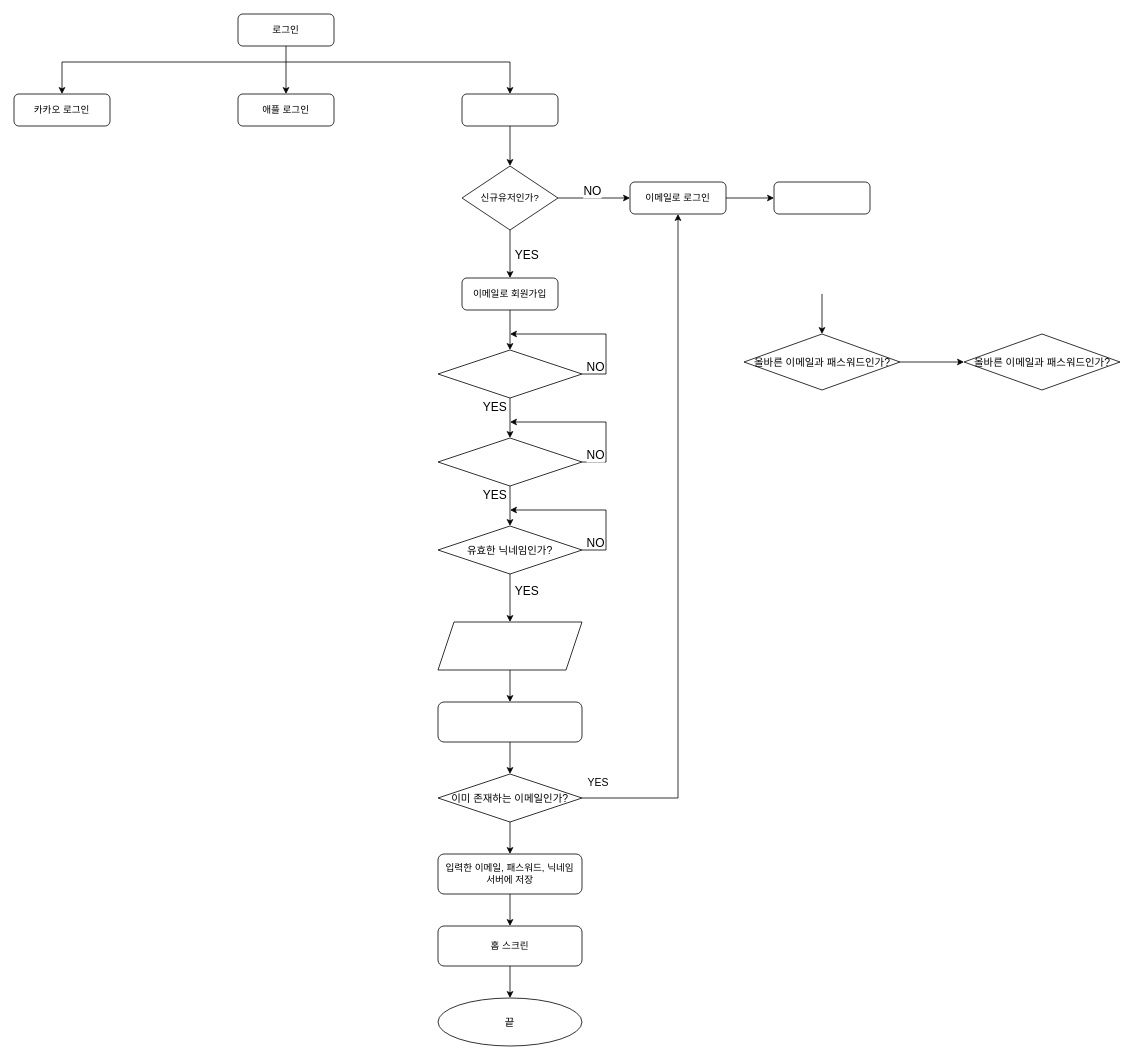
Image size: 1134x1060. Some labels were removed from this diagram. The box of each missing label's shape, as (x1, y1, x2, y2) in pixels:
기존에 아이디가 있는지, 서버로부터 확인: (437, 701, 582, 742)
유효한 이메일인가?: (437, 349, 582, 398)
유효한 패스워드인가?: (437, 437, 582, 486)
이메일 로그인: (461, 93, 558, 126)
이메일과 패스워드 입력: (773, 181, 870, 214)
회원가입 버튼 클릭: (437, 621, 582, 670)
